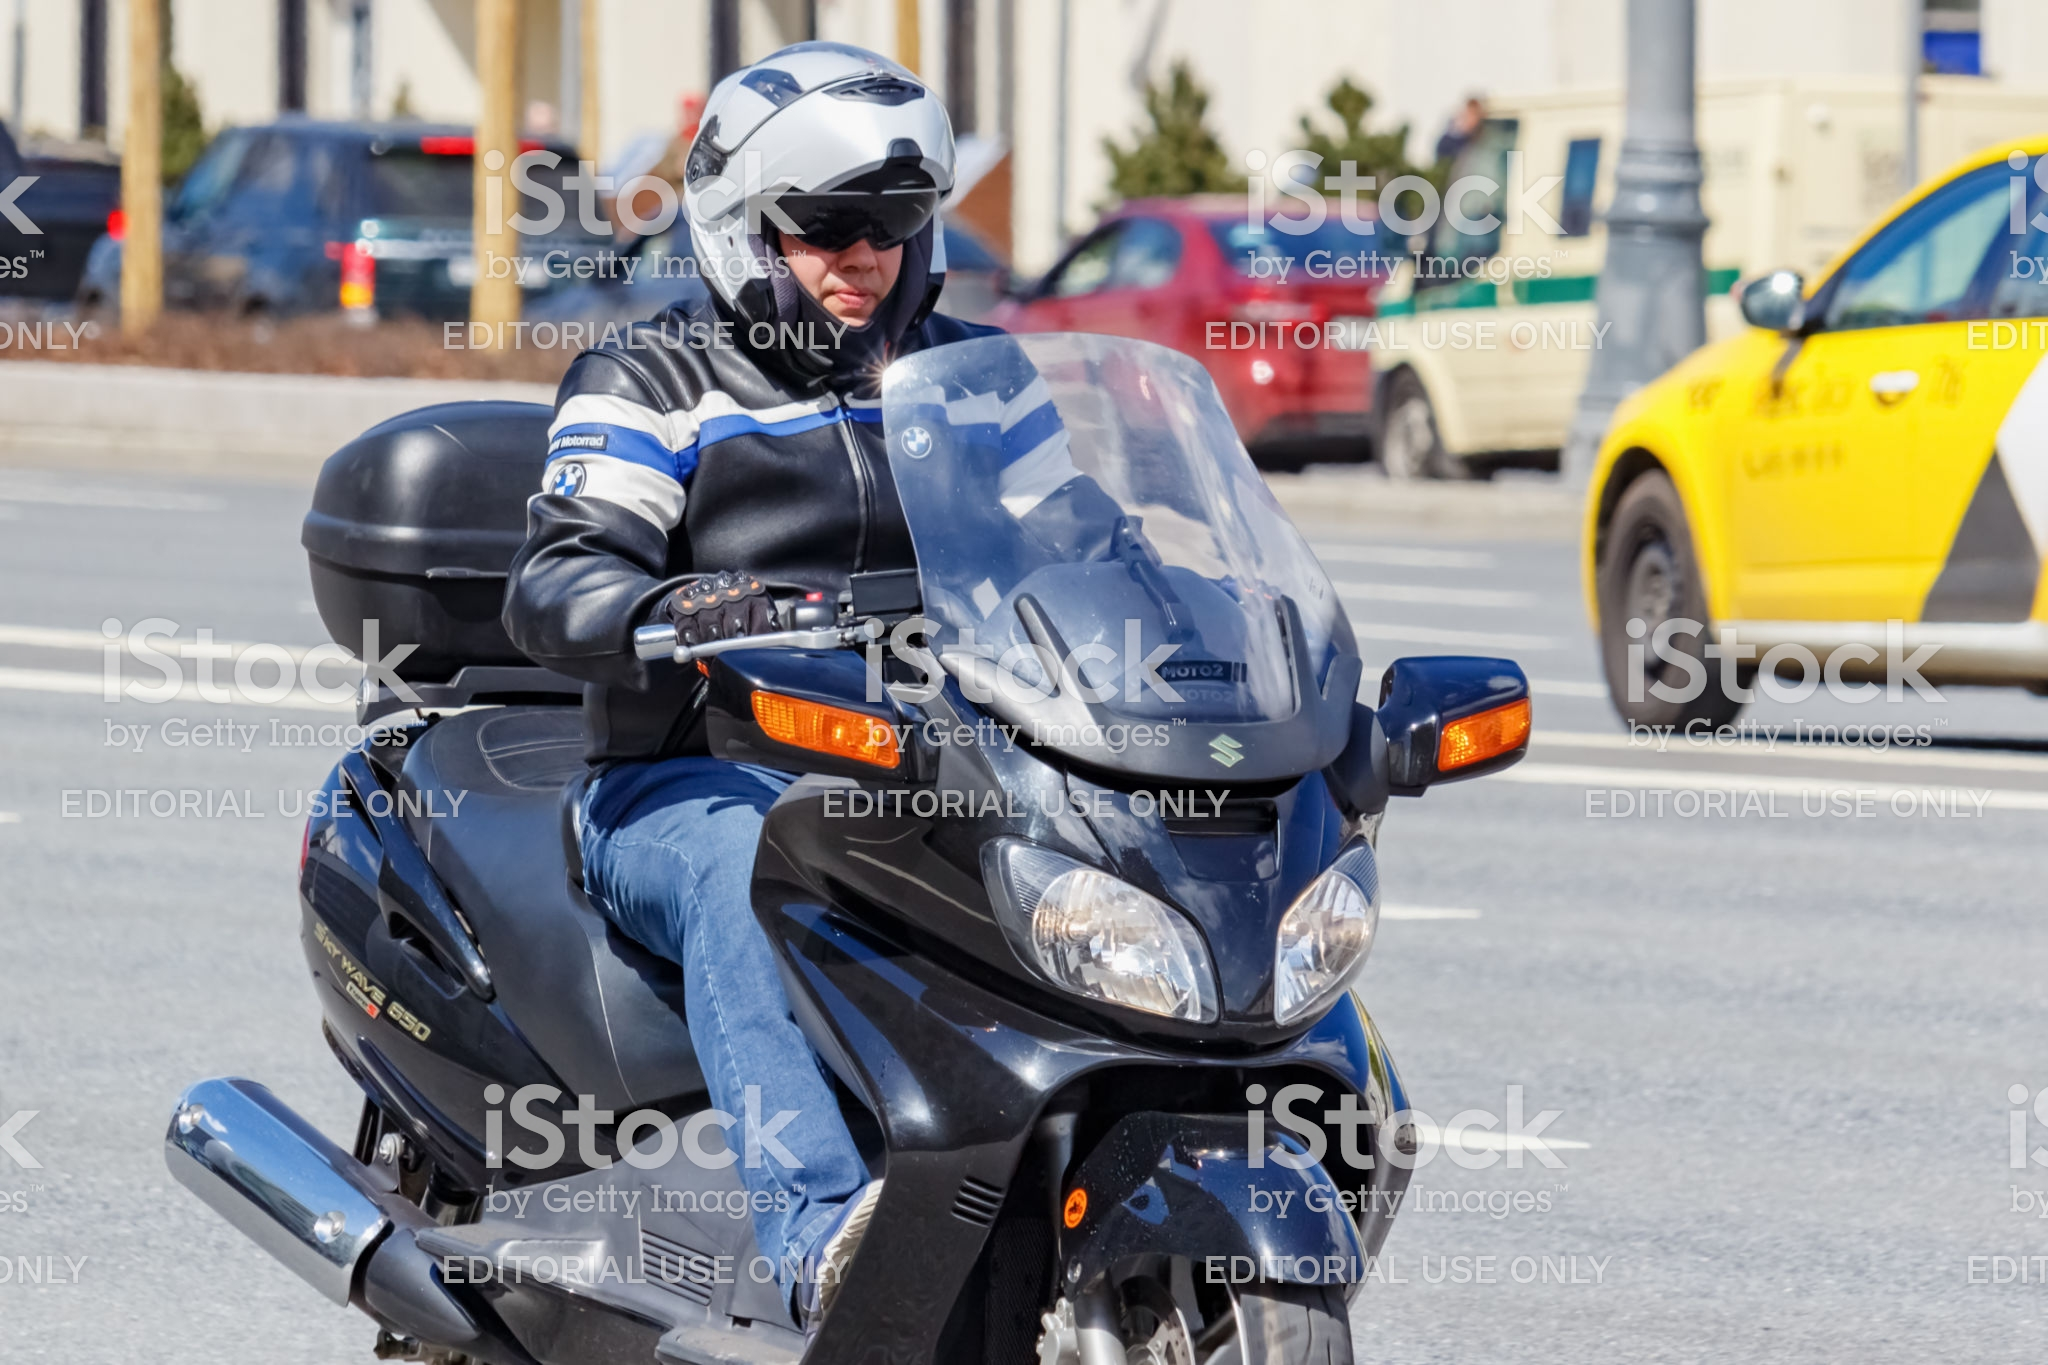helmet: (656, 72, 984, 352)
